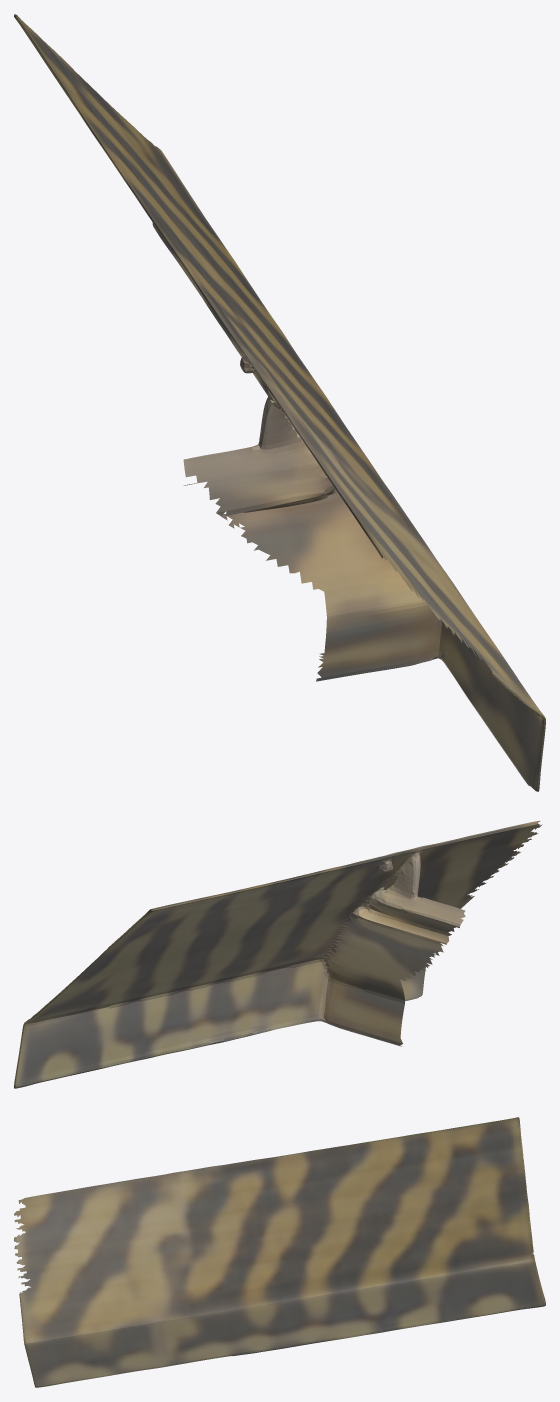
The model's file is guard-right.glb.
3 renders of one model, top to bottom at view 1: azimuth 30°, elevation 25°; view 2: azimuth 150°, elevation 25°; view 3: azimuth 270°, elevation 25°, orthographic. The views are drawn at different scales.
Visible parts, largest first — view 1: geometry_0; view 2: geometry_0; view 3: geometry_0.
Boxes of the visible parts, x1,y1,x2,y2 form: geometry_0: [14, 14, 545, 791]; geometry_0: [14, 820, 542, 1088]; geometry_0: [14, 1117, 545, 1387].
Bounding box in the file's own units: 0.6927 × 1.01 × 1.95.
